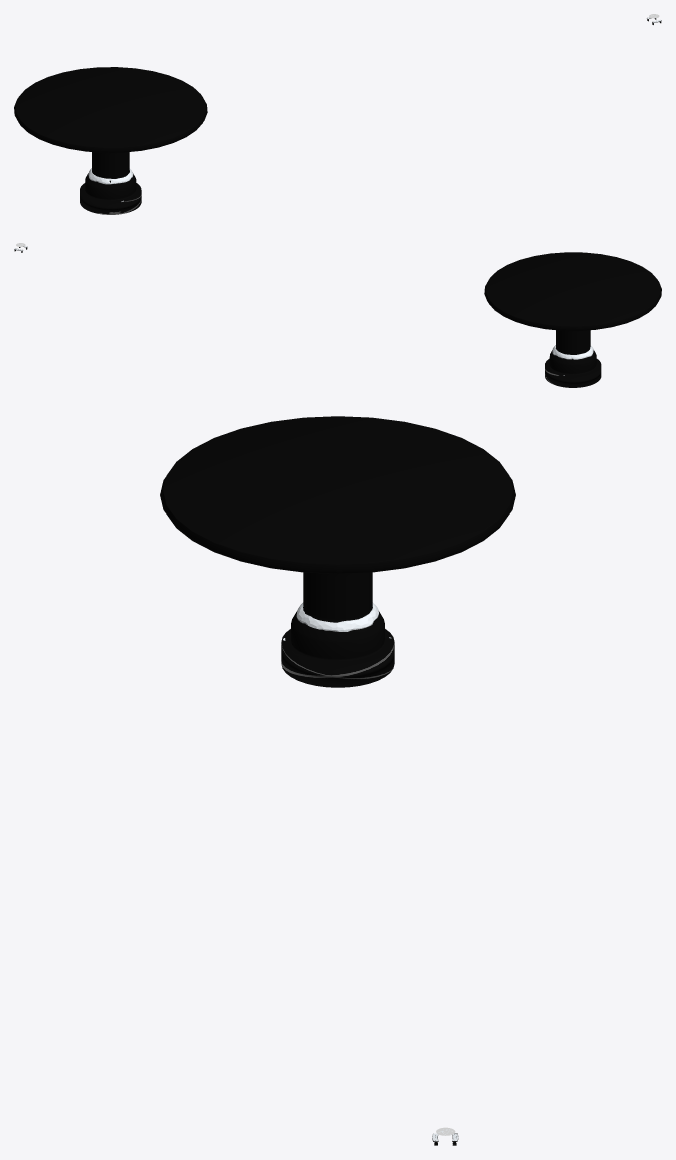
The model's file is table 3.fbx.
The picture shows the model from 3 angles, top to bottom: view 1: azimuth 30°, elevation 25°; view 2: azimuth 150°, elevation 25°; view 3: azimuth 270°, elevation 25°; orthographic projection. The views are drawn at different scales.
Parts seen in each view (by area): view 1: Cylinder.001, SnowBall.001; view 2: Cylinder.001, SnowBall.001; view 3: Cylinder.001.
Part boxes in pixels (box(x1,y1,x2,y2)): Cylinder.001: box(14, 67, 207, 214); SnowBall.001: box(88, 168, 133, 201); Cylinder.001: box(484, 252, 661, 387); SnowBall.001: box(552, 345, 593, 375); Cylinder.001: box(160, 416, 515, 687).
Size of the model in its own units: 17336 by 2372 by 4404.
